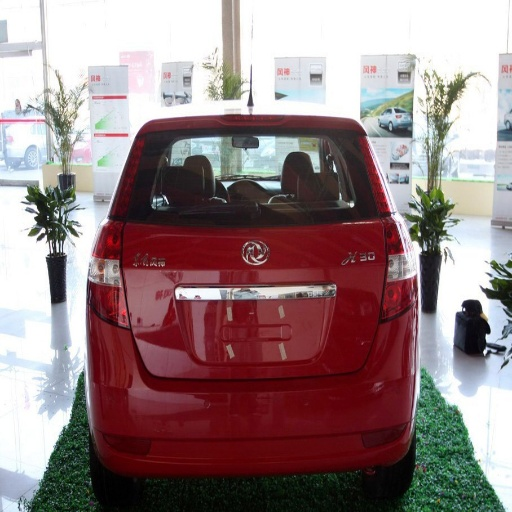back_bumper: (90, 306, 416, 480)
tailgate: (120, 221, 381, 378)
trunk: (129, 216, 387, 347)
